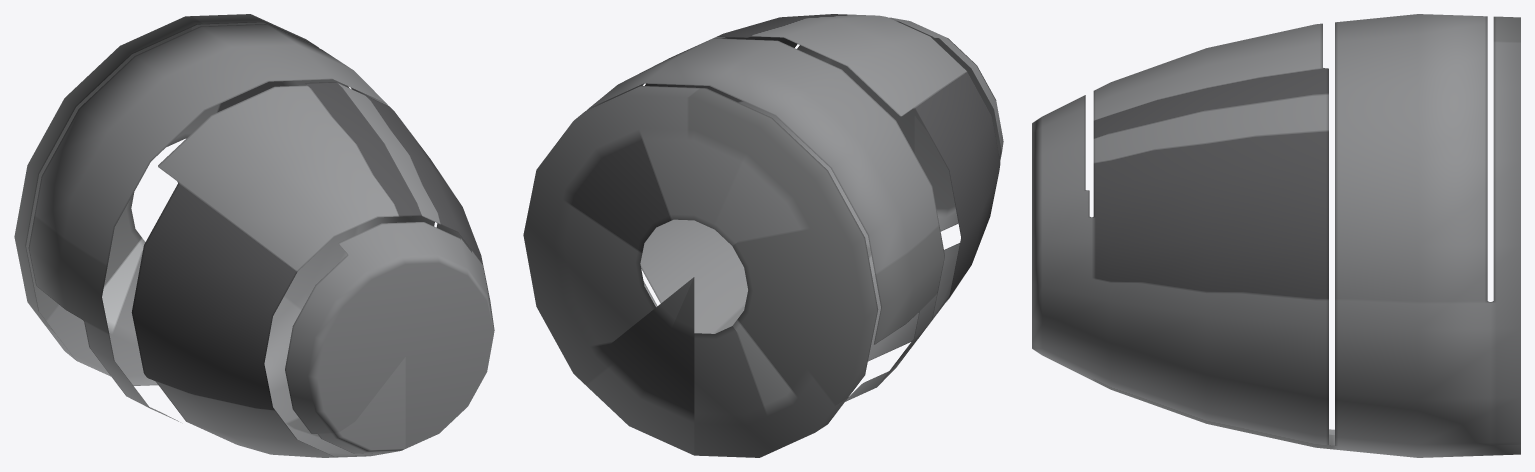
The picture shows the model from 3 angles, left to right: view 1: azimuth 30°, elevation 25°; view 2: azimuth 150°, elevation 25°; view 3: azimuth 270°, elevation 25°; orthographic projection. The views are drawn at different scales.
Size of the model in its own units: 0.702 by 0.702 by 0.7722.
